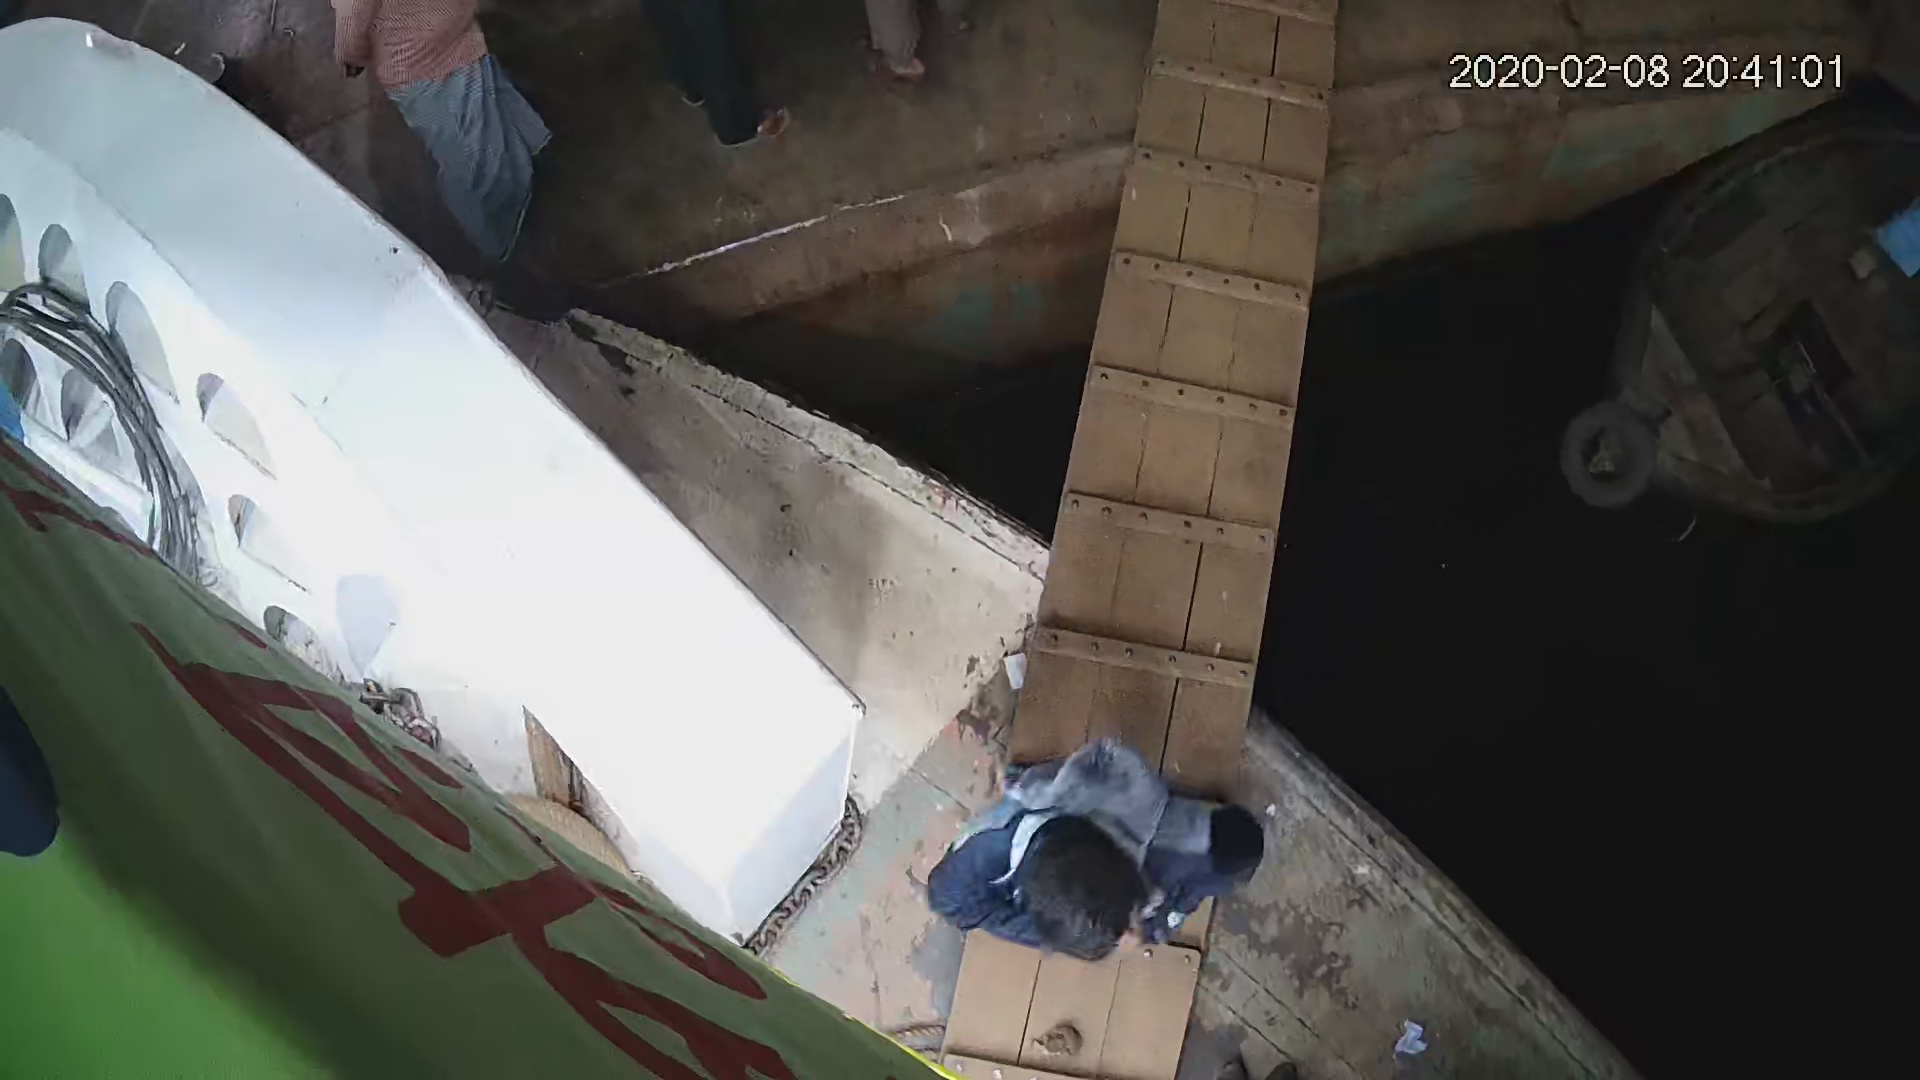person: (915, 738, 1271, 963), (328, 1, 550, 278)
